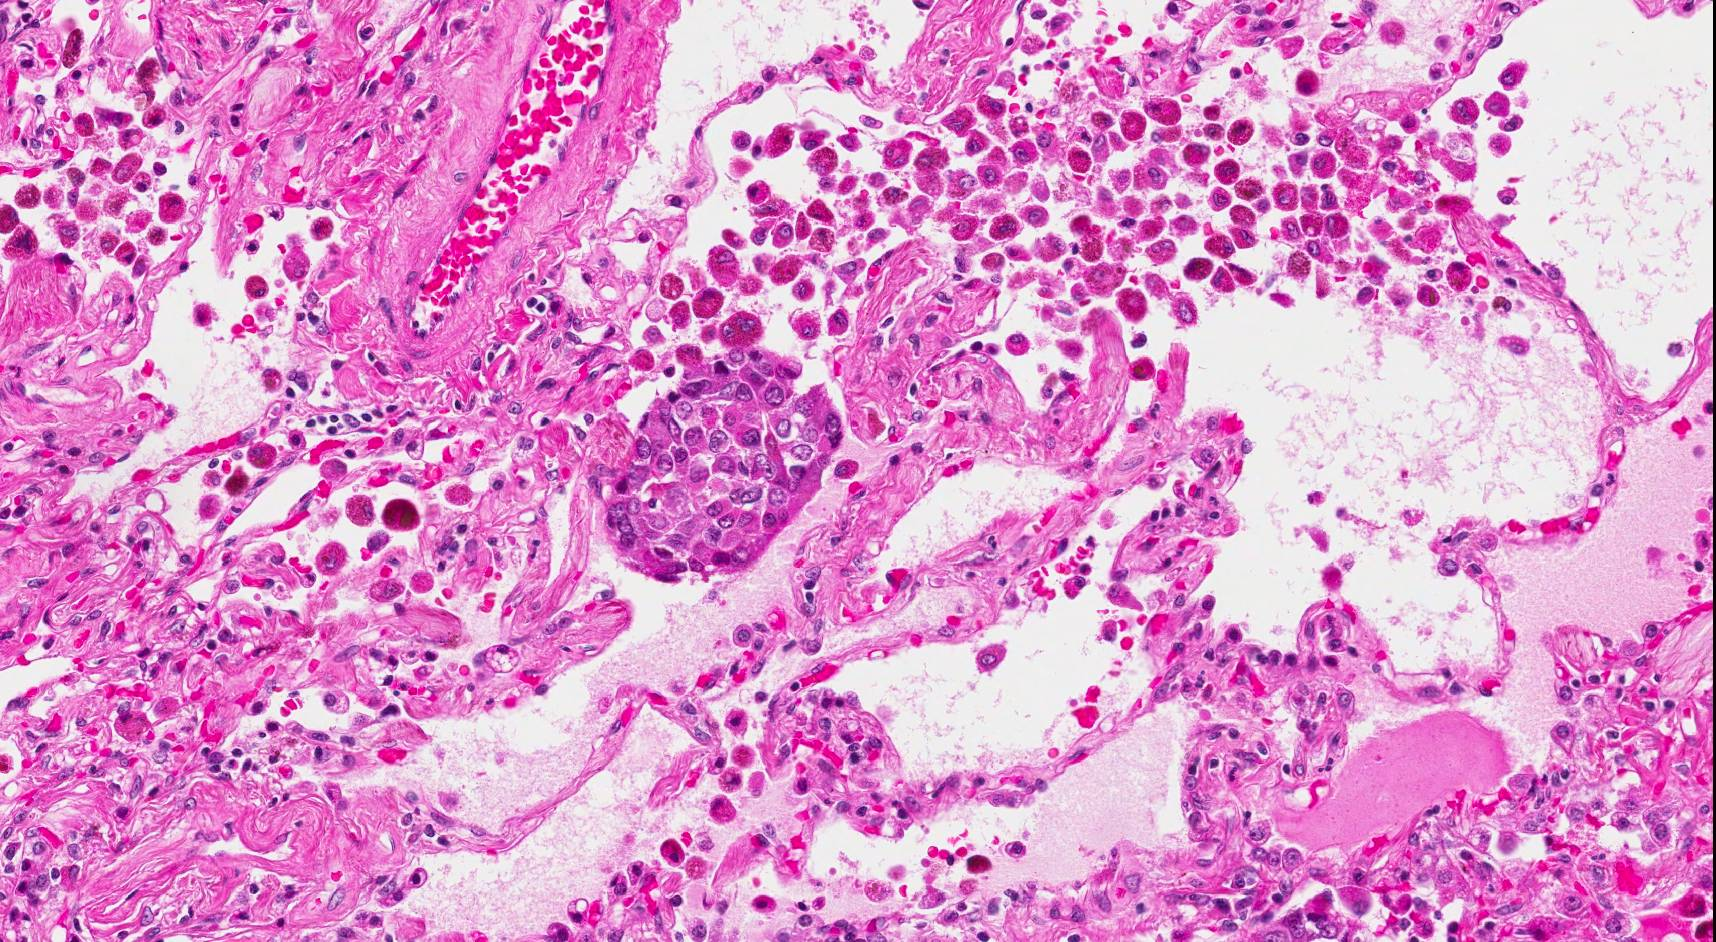stas: (611, 345, 844, 588)
